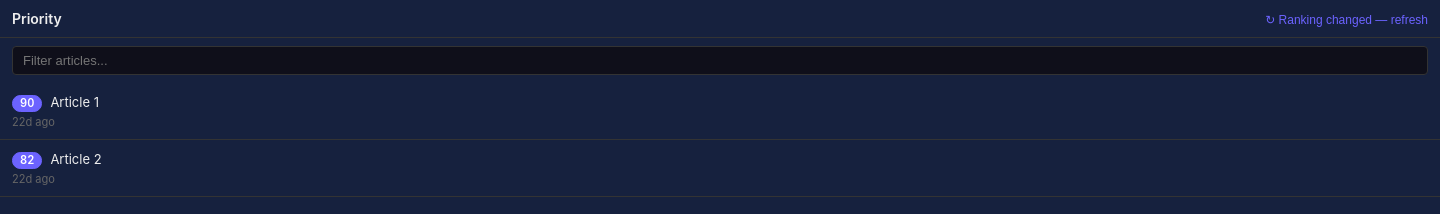
Test case: PriorityList › refreshClearsTheHint
Expected: the text "Article 2" is shown, x1=50 y1=150 x2=102 y2=168
Click the button with aria-label "Ranking changed. Refresh ranking".
click(1347, 20)  # box x1=1265 y1=13 x2=1428 y2=27
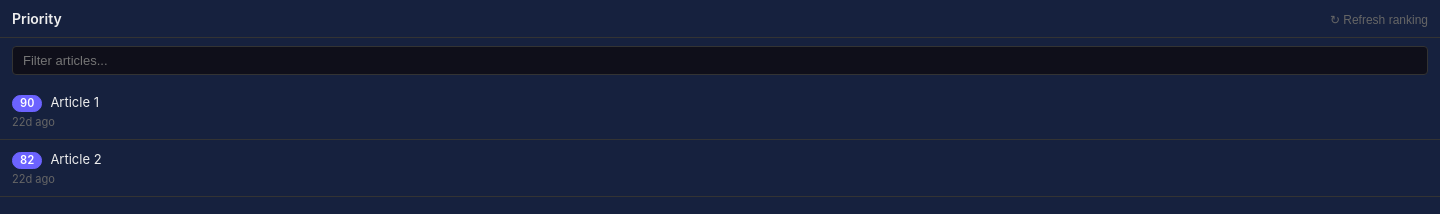
Expected: the button "↻ Refresh ranking" is shown, x1=1330 y1=13 x2=1428 y2=27
